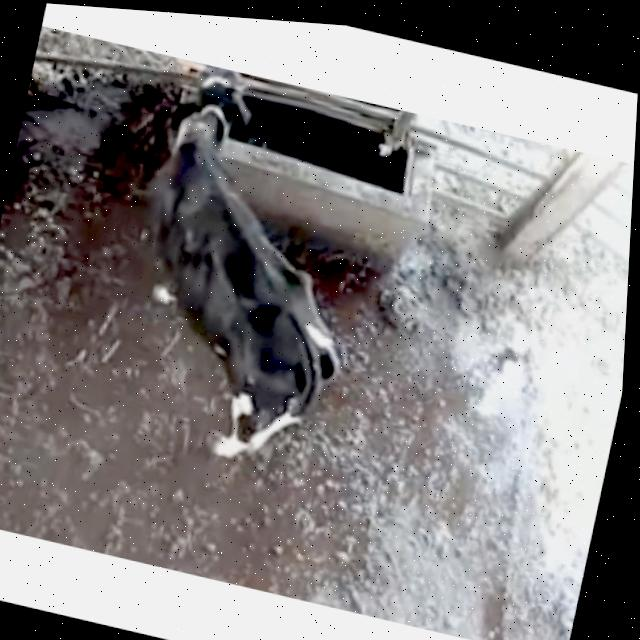drink: (143, 53, 297, 204)
